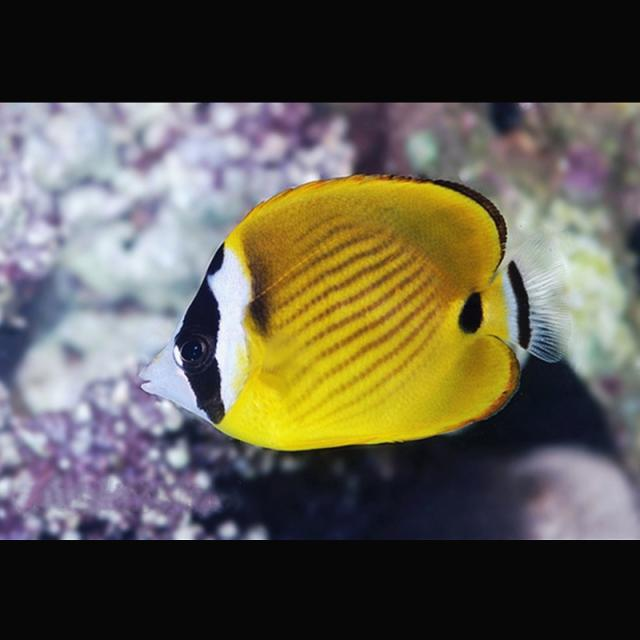ButterflyFish: (141, 173, 569, 457)
